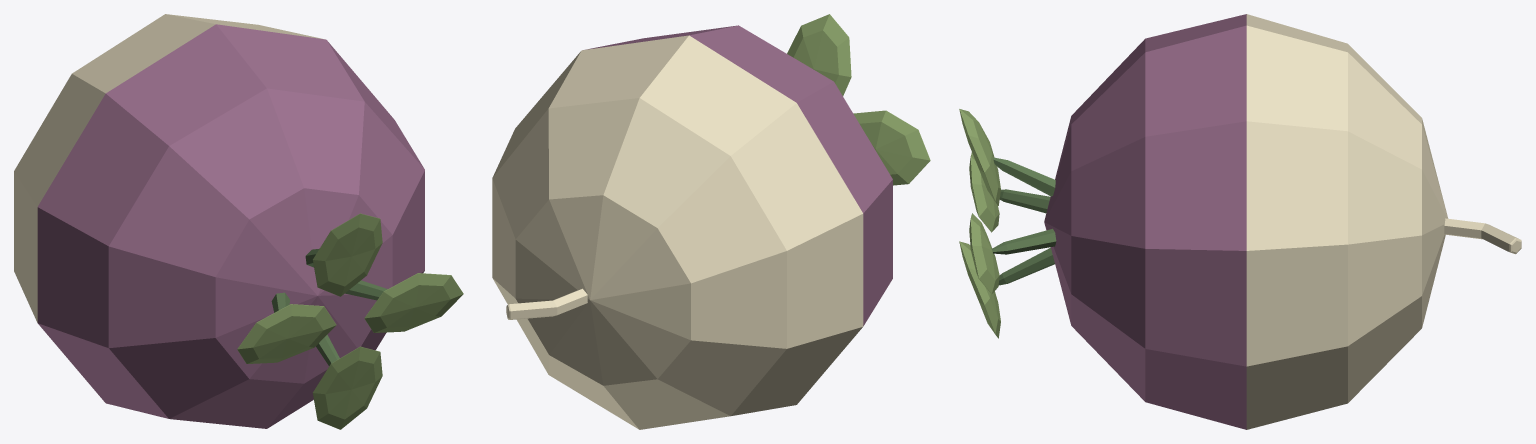
File: turnip.glb
3 views of the same model, side by side, from view 1: azimuth 30°, elevation 25°; view 2: azimuth 150°, elevation 25°; view 3: azimuth 270°, elevation 25° (orthographic). The views are drawn at different scales.
Visible parts, largest first — view 1: turnip; view 2: turnip; view 3: turnip.
Part boxes in pixels (box(x1,y1,x2,y2)): turnip: box(14, 14, 463, 429); turnip: box(492, 14, 930, 429); turnip: box(959, 14, 1521, 429).
Size of the model in its own units: 0.0913 by 0.0963 by 0.125.
